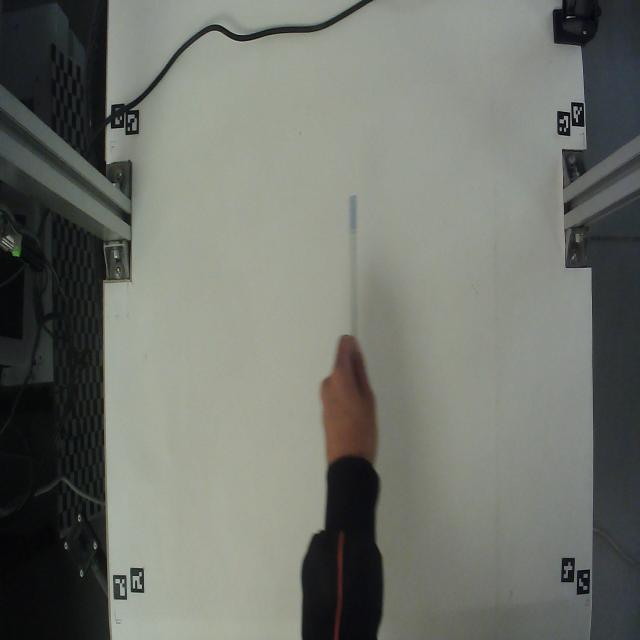NoPres: (344, 183, 370, 338)
